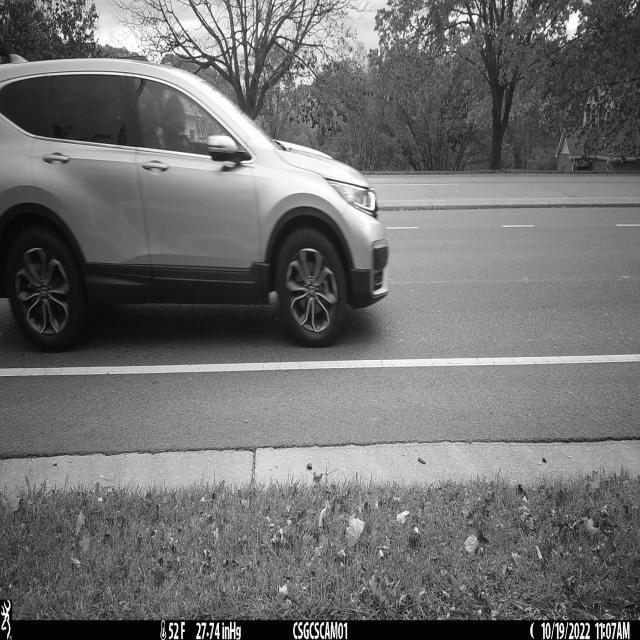SUV: (0, 55, 391, 355)
